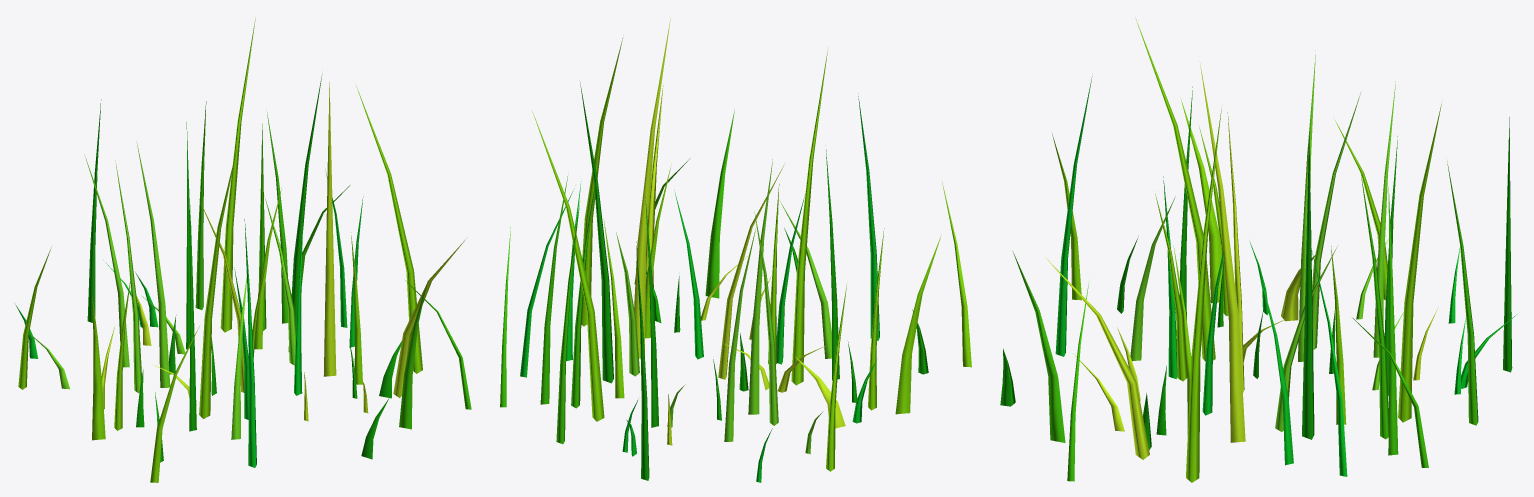
The model's file is GrassLess.FBX.
The picture shows the model from 3 angles, left to right: view 1: azimuth 30°, elevation 25°; view 2: azimuth 150°, elevation 25°; view 3: azimuth 270°, elevation 25°; orthographic projection. The views are drawn at different scales.
Parts seen in each view (by area): view 1: Cone173, Cone086, Cone130, Cone175, Cone041, Cone160, Cone039, Cone032, Cone012, Cone066, Cone037, Cone126 (+19 smaller); view 2: Cone130, Cone086, Cone173, Cone039, Cone041, Cone032, Cone175, Cone066, Cone037, Cone002, Cone010, Cone160 (+21 smaller); view 3: Cone173, Cone175, Cone086, Cone039, Cone130, Cone167, Cone160, Cone066, Cone094, Cone002, Cone037, Cone032 (+22 smaller).
Part boxes in pixels (bbox=[...]): Cone173: bbox=[323, 82, 336, 376]; Cone086: bbox=[220, 18, 255, 332]; Cone130: bbox=[199, 149, 236, 418]; Cone175: bbox=[356, 86, 422, 373]; Cone041: bbox=[136, 142, 170, 387]; Cone160: bbox=[244, 219, 256, 467]; Cone039: bbox=[288, 74, 322, 351]; Cone032: bbox=[92, 296, 105, 440]; Cone012: bbox=[115, 160, 141, 393]; Cone066: bbox=[399, 282, 427, 429]; Cone037: bbox=[195, 101, 206, 309]; Cone126: bbox=[189, 205, 196, 431]; Cone130: bbox=[791, 50, 827, 385]; Cone086: bbox=[532, 111, 604, 421]; Cone173: bbox=[634, 17, 670, 358]; Cone039: bbox=[580, 82, 613, 383]; Cone041: bbox=[748, 159, 772, 414]; Cone032: bbox=[895, 235, 941, 414]; Cone175: bbox=[581, 37, 623, 326]; Cone066: bbox=[705, 109, 734, 298]; Cone037: bbox=[556, 201, 580, 444]; Cone002: bbox=[540, 174, 568, 404]; Cone010: bbox=[636, 242, 649, 480]; Cone160: bbox=[858, 93, 879, 340]; Cone173: bbox=[1199, 61, 1245, 442]; Cone175: bbox=[1186, 107, 1221, 482]; Cone086: bbox=[1398, 104, 1441, 422]; Cone039: bbox=[1302, 132, 1314, 439]; Cone130: bbox=[1135, 18, 1215, 361]; Cone167: bbox=[1045, 257, 1149, 459]; Cone160: bbox=[1055, 76, 1092, 356]; Cone066: bbox=[1012, 251, 1065, 442]; Cone094: bbox=[1360, 172, 1388, 439]; Cone002: bbox=[1388, 187, 1398, 455]; Cone037: bbox=[1447, 162, 1478, 425]; Cone032: bbox=[1181, 99, 1221, 303].
Size of the model in its own units: 7.9 by 7.05 by 8.91.
